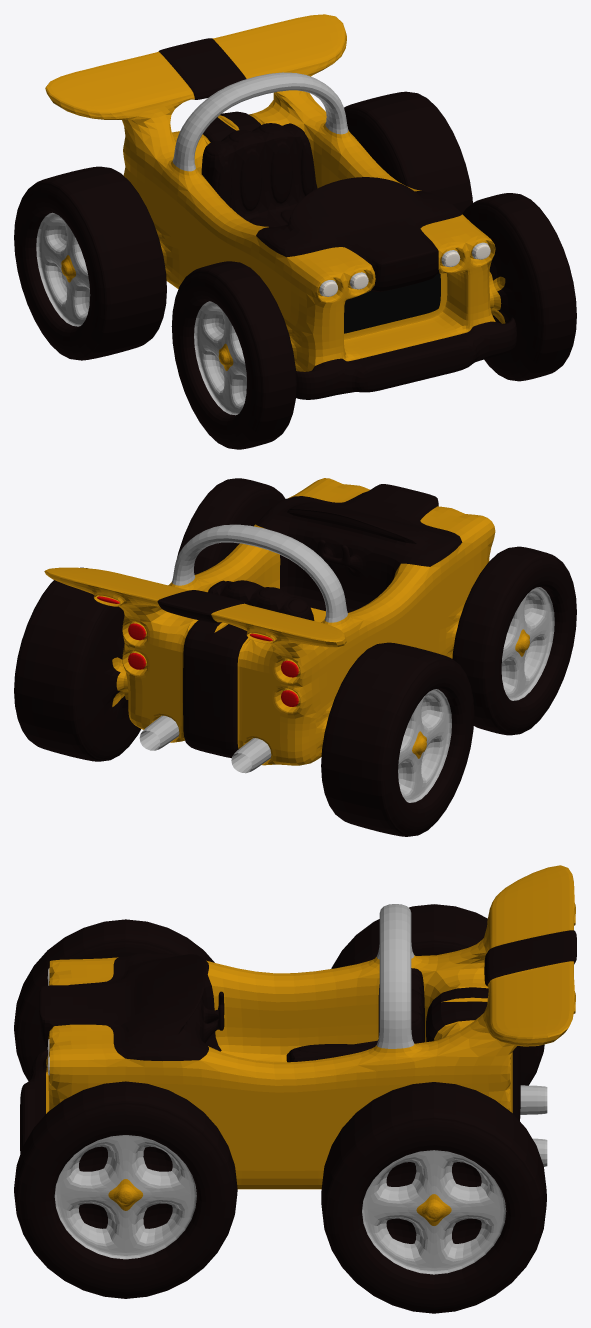
Rendered from CarFBX.fbx.
3 renders of one model, top to bottom at view 1: azimuth 30°, elevation 25°; view 2: azimuth 150°, elevation 25°; view 3: azimuth 270°, elevation 25°, orthographic. The views are drawn at different scales.
Parts seen in each view (by area): view 1: Car, TireBR, TireFR, TireFL, TireBL; view 2: Car, TireBR, TireFR, TireBL, TireFL; view 3: Car, TireBL, TireFL, TireFR, TireBR.
Boxes of the visible parts, box(x1,y1,x2,y2) form: Car: box(45, 14, 516, 399); TireBR: box(14, 166, 166, 360); TireFR: box(171, 261, 296, 449); TireFL: box(462, 193, 576, 381); TireBL: box(344, 91, 472, 213); Car: box(44, 478, 495, 773); TireBR: box(321, 642, 474, 836); TireFR: box(452, 546, 576, 735); TireBL: box(14, 567, 140, 761); TireFL: box(177, 478, 285, 574); Car: box(20, 865, 576, 1189); TireBL: box(321, 1082, 546, 1313); TireFL: box(14, 1081, 237, 1298); TireFR: box(14, 919, 214, 1081); TireBR: box(331, 904, 544, 1085).
Bounding box in the file's own units: 267 × 167 × 292.
